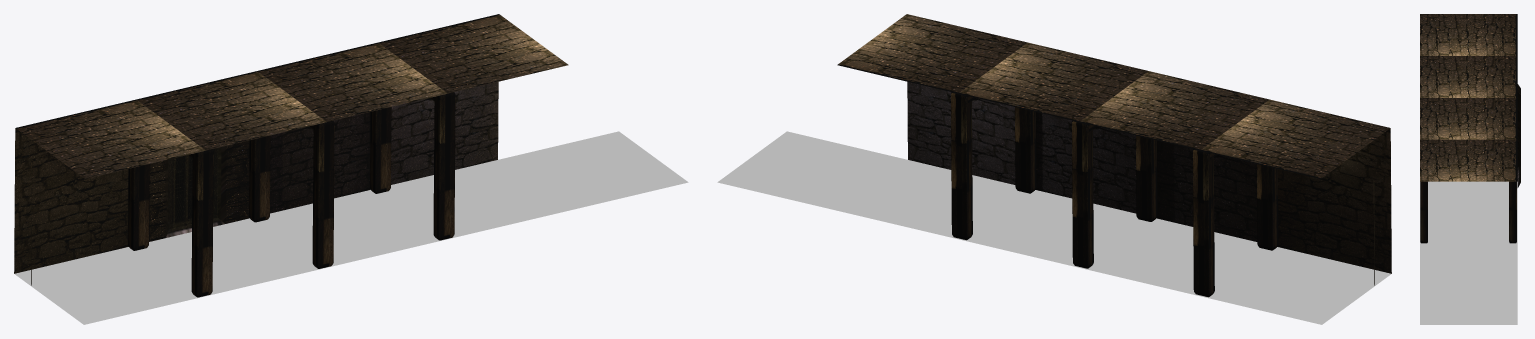
Rendered from corredor2.fbx.
3 renders of one model, left to right at view 1: azimuth 30°, elevation 25°; view 2: azimuth 150°, elevation 25°; view 3: azimuth 270°, elevation 25°, orthographic. The views are drawn at different scales.
Visible parts, largest first — view 1: floor01.000, teto01.000, wall01.013, cilindro01.004; view 2: floor01.000, teto01.000, wall01.013, cilindro01.004; view 3: teto01.000, floor01.000, cilindro01.004, wall01.013.
Part boxes in pixels (x1,y1,x2,y2): floor01.000: [14, 131, 688, 324]; teto01.000: [15, 14, 568, 178]; wall01.013: [14, 81, 498, 285]; cilindro01.004: [128, 92, 455, 297]; floor01.000: [717, 131, 1391, 324]; teto01.000: [837, 14, 1390, 178]; wall01.013: [907, 81, 1391, 285]; cilindro01.004: [951, 92, 1278, 297]; teto01.000: [1420, 14, 1517, 181]; floor01.000: [1420, 181, 1517, 324]; cilindro01.004: [1420, 181, 1516, 243]; wall01.013: [1517, 84, 1520, 187].
Bounding box in the file's own units: 1006 × 238 × 206.
